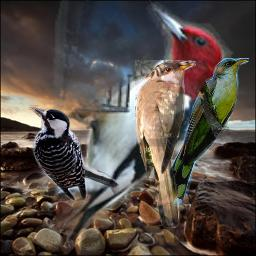Cuckoo: (159, 58, 249, 206), (135, 60, 196, 228)
Woodpecker: (37, 0, 238, 254), (29, 105, 120, 201)
